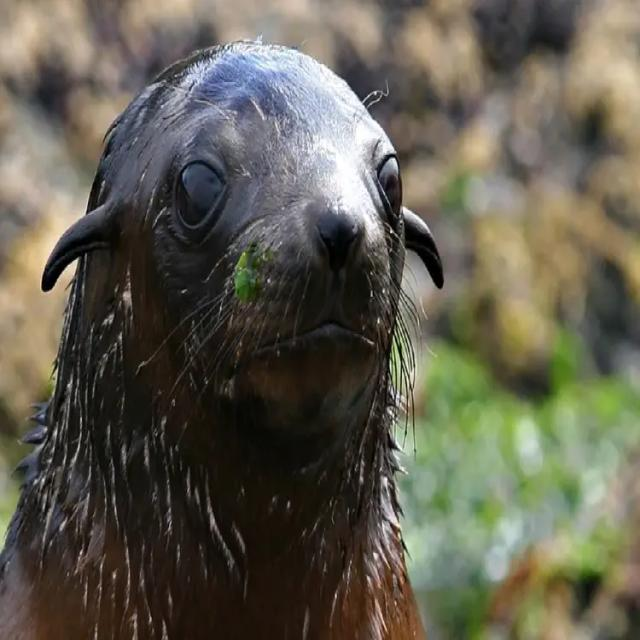WaterDog: (0, 34, 438, 640)
